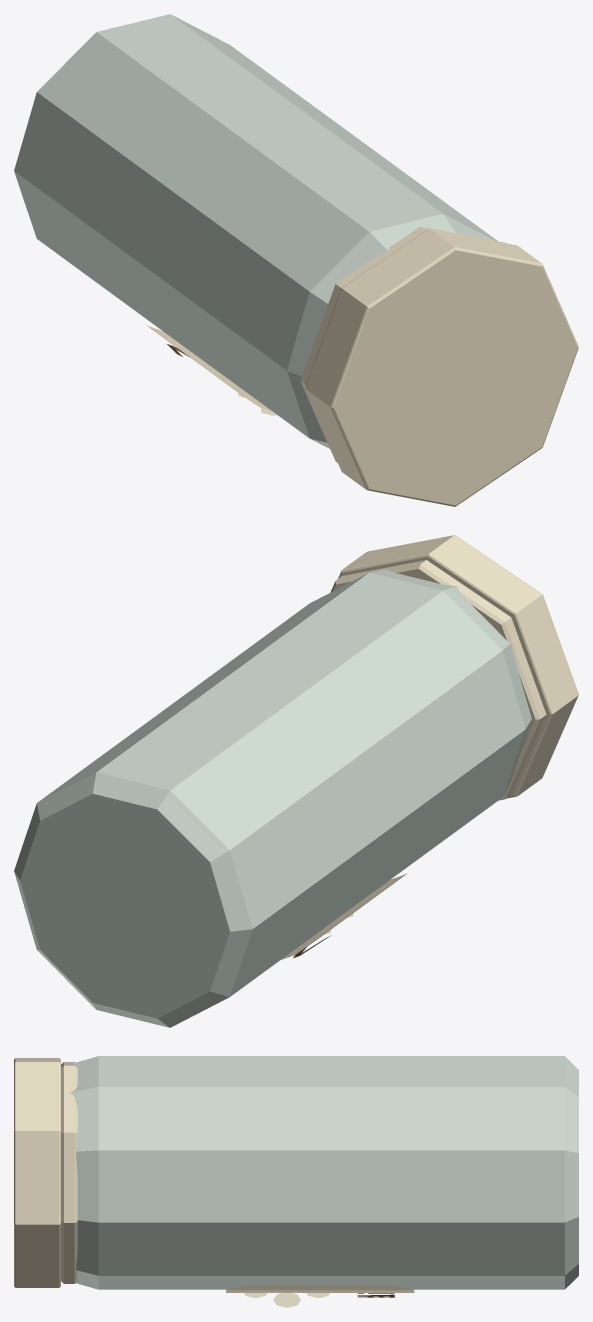
File: vanilla_pods.glb
3 views of the same model, one above another, from view 1: azimuth 30°, elevation 25°; view 2: azimuth 150°, elevation 25°; view 3: azimuth 270°, elevation 25° (orthographic). The views are drawn at different scales.
Parts seen in each view (by area): view 1: vanilla_pods; view 2: vanilla_pods; view 3: vanilla_pods.
Part boxes in pixels (x1=…): vanilla_pods: x1=14, y1=14, x2=578, y2=506; vanilla_pods: x1=14, y1=535, x2=578, y2=1027; vanilla_pods: x1=14, y1=1056, x2=578, y2=1307.
Size of the model in its own units: 0.052 by 0.053 by 0.12.
